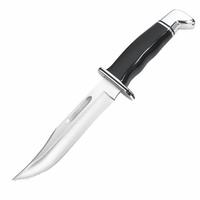knife: (7, 8, 188, 186)
